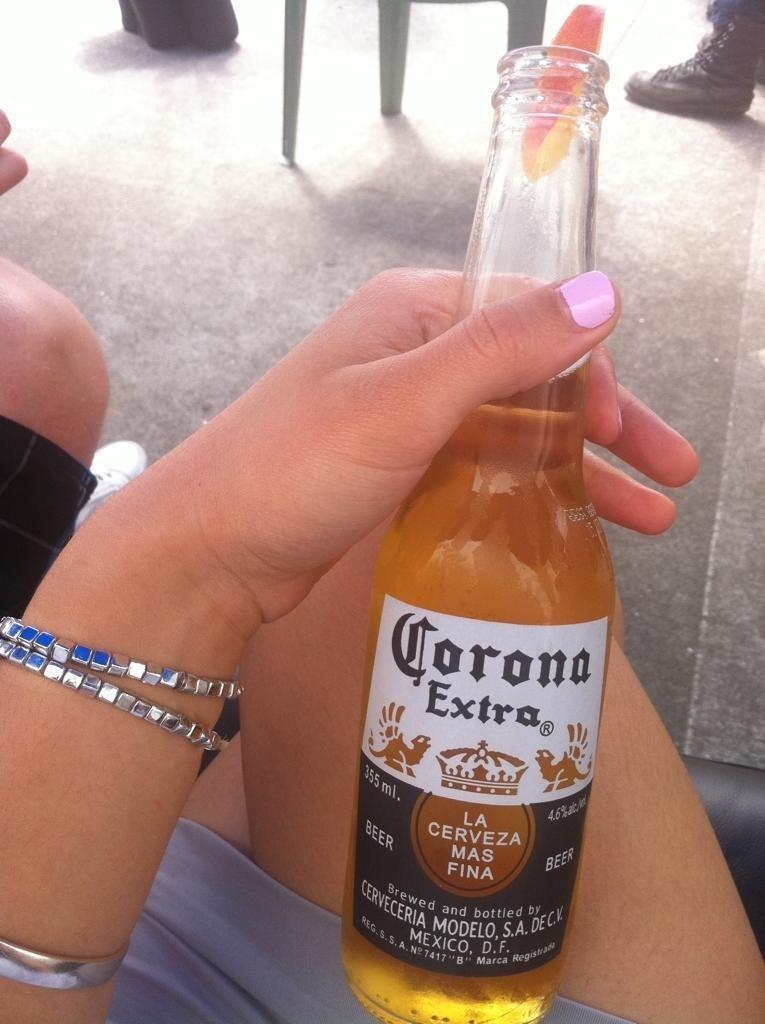bottle-glass: (338, 42, 626, 1023)
